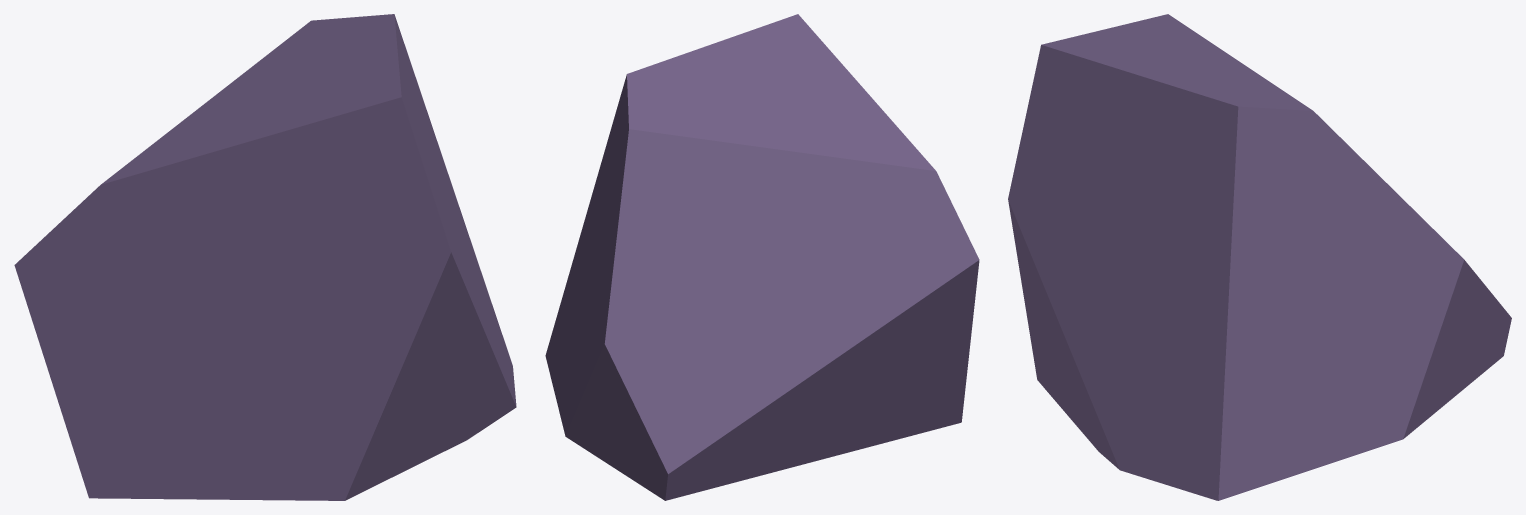
File: big-single-rock.fbx
3 renders of one model, left to right at view 1: azimuth 30°, elevation 25°; view 2: azimuth 150°, elevation 25°; view 3: azimuth 270°, elevation 25°, orthographic. The views are drawn at different scales.
Visible parts, largest first — view 1: Cube.134; view 2: Cube.134; view 3: Cube.134.
Part boxes in pixels (<box>): Cube.134: <box>14,14,516,500</box>; Cube.134: <box>545,14,979,500</box>; Cube.134: <box>1008,14,1511,500</box>.
Bounding box in the file's own units: 107 × 77.96 × 98.08.
